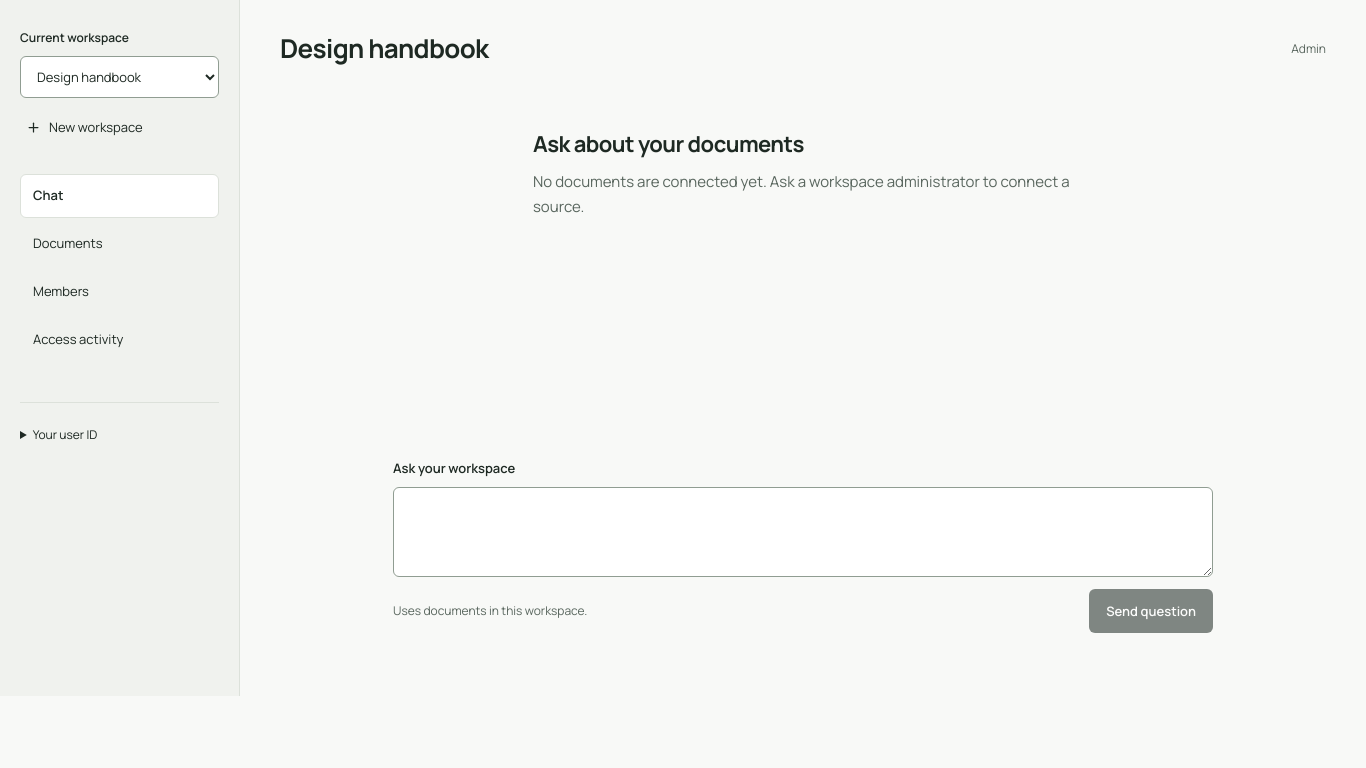
it: workspace interface › gives admins access to the membership interface
The image size is (1366, 768).
Expected: the heading "Design handbook" is shown, [280,32,488,66]
Click the button "Members" at (120, 292), box [20,270,219,314]
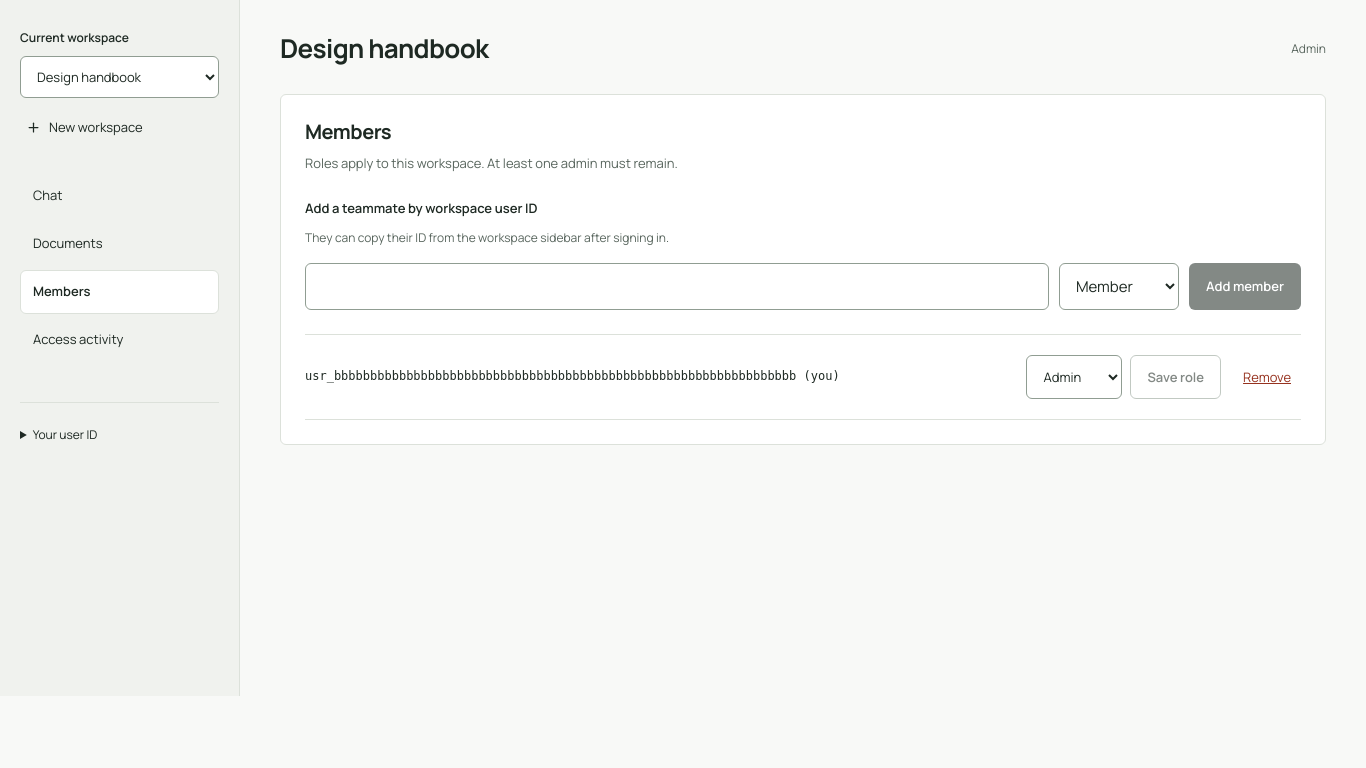
Now the heading "Members" is shown, box [305,118,391,145]
Now the field labelled "Add a teammate by workspace user ID" is shown, box [305,264,1049,310]
